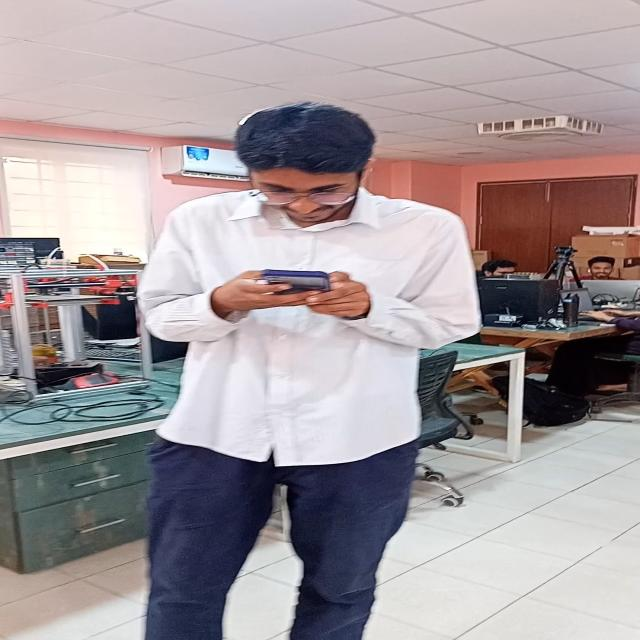dress: (145, 189, 495, 640)
glasses: (232, 174, 374, 208)
